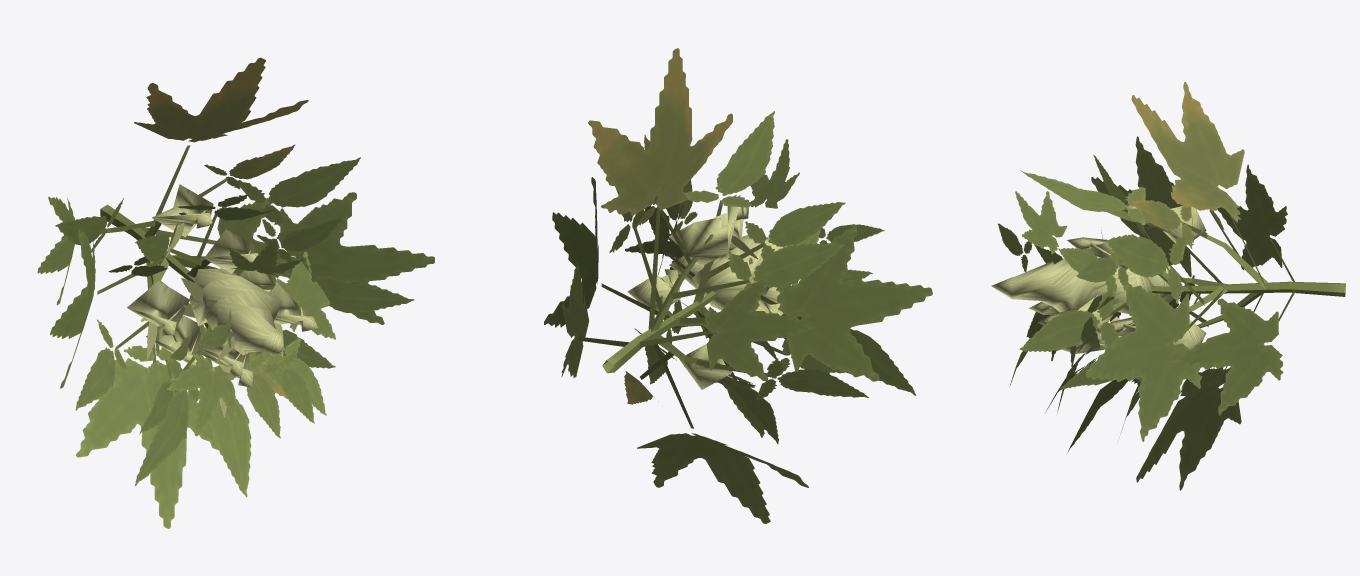
File: p_frosty_auto_ripe_c1_cards.obj
3 views of the same model, side by side, from view 1: azimuth 30°, elevation 25°; view 2: azimuth 150°, elevation 25°; view 3: azimuth 270°, elevation 25° (orthographic). The views are drawn at different scales.
Size of the model in its own units: 1.34 by 1.56 by 0.947.
Materials: 1 (1 with a texture image).
